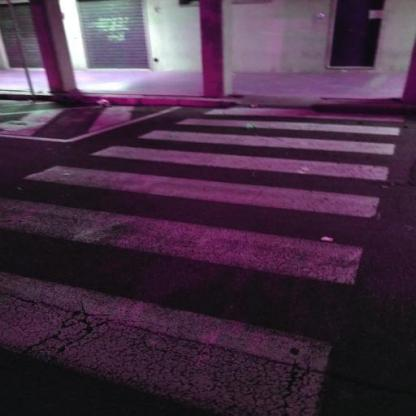crosswalk: (88, 127, 414, 184)
